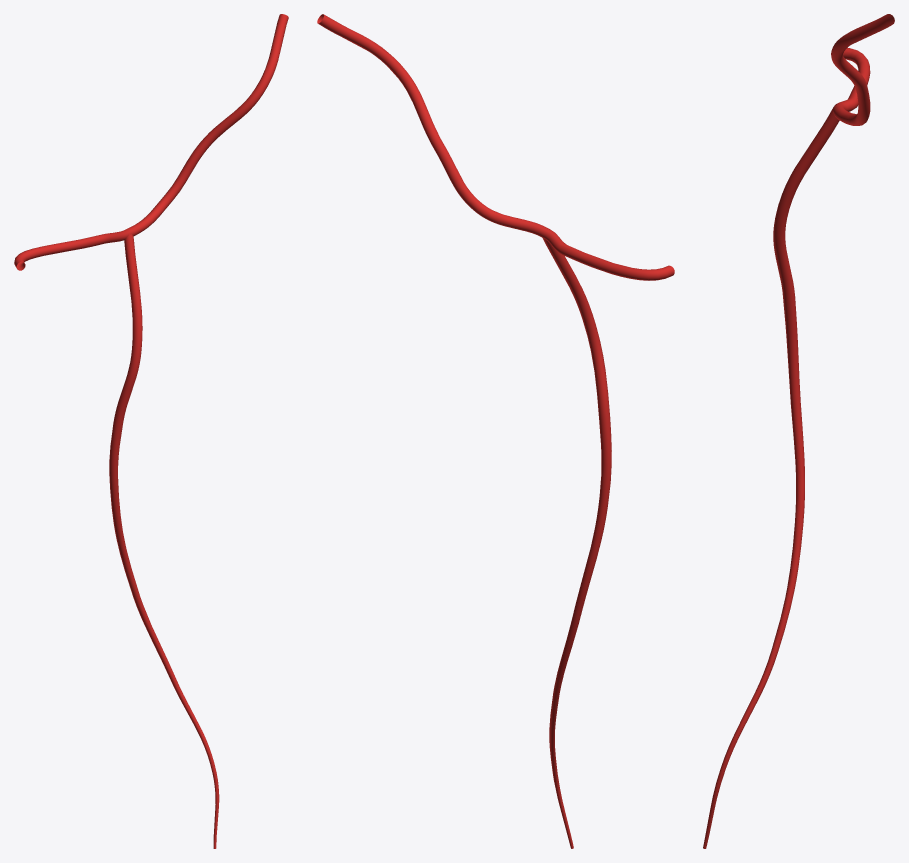
The model's file is circulatorio-superficial-external-pudendal-artery-l.glb.
The picture shows the model from 3 angles, left to right: view 1: azimuth 30°, elevation 25°; view 2: azimuth 150°, elevation 25°; view 3: azimuth 270°, elevation 25°; orthographic projection. The views are drawn at different scales.
Parts seen in each view (by area): view 1: Superficial external pudendal artery.l; view 2: Superficial external pudendal artery.l; view 3: Superficial external pudendal artery.l.
Boxes of the visible parts, box(x1,y1,x2,y2) form: Superficial external pudendal artery.l: box(14, 14, 288, 848); Superficial external pudendal artery.l: box(317, 14, 674, 848); Superficial external pudendal artery.l: box(703, 14, 894, 848).
Size of the model in its own units: 0.0479 by 0.1173 by 0.0222.
